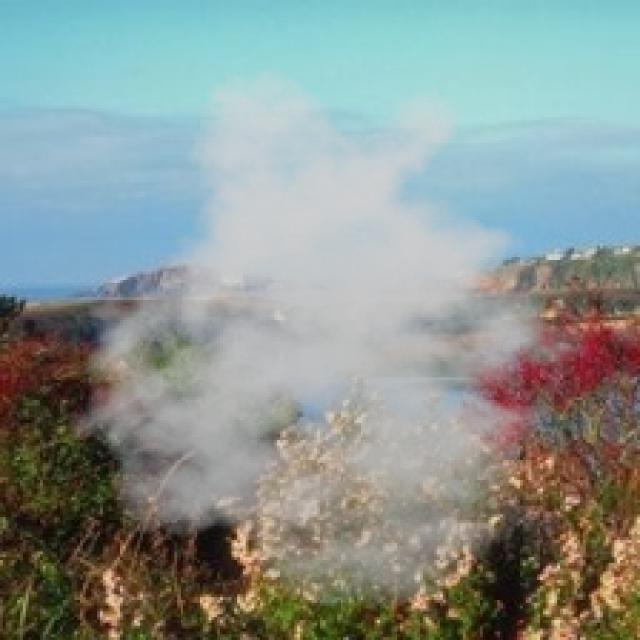smoke: (54, 66, 609, 611)
